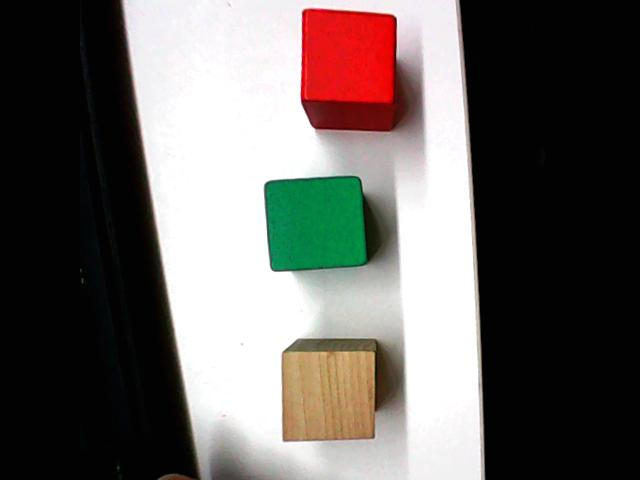green_box: (260, 172, 371, 275)
raw_box: (277, 335, 379, 444)
red_box: (295, 5, 403, 134)
